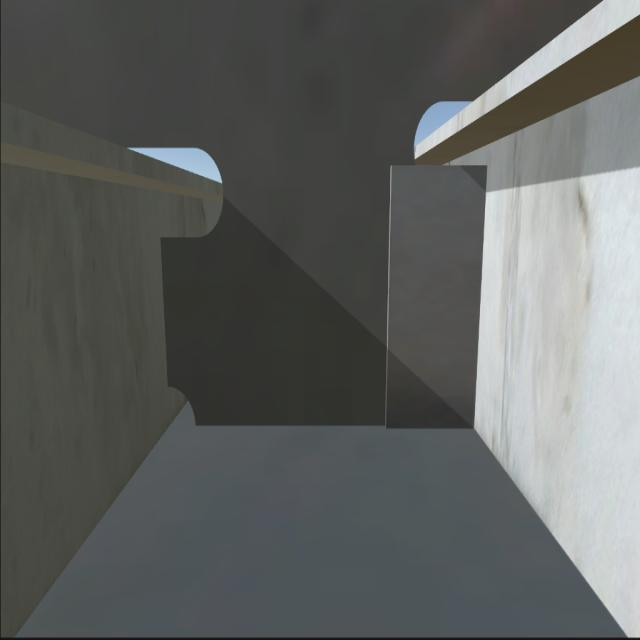fillet_hole: (166, 384, 198, 428)
fillet_yong_jeop_jang: (201, 420, 471, 434)
longi_yong_jeop_jang: (157, 237, 170, 379), (472, 166, 476, 434)
plate_CP01: (387, 163, 478, 419)
